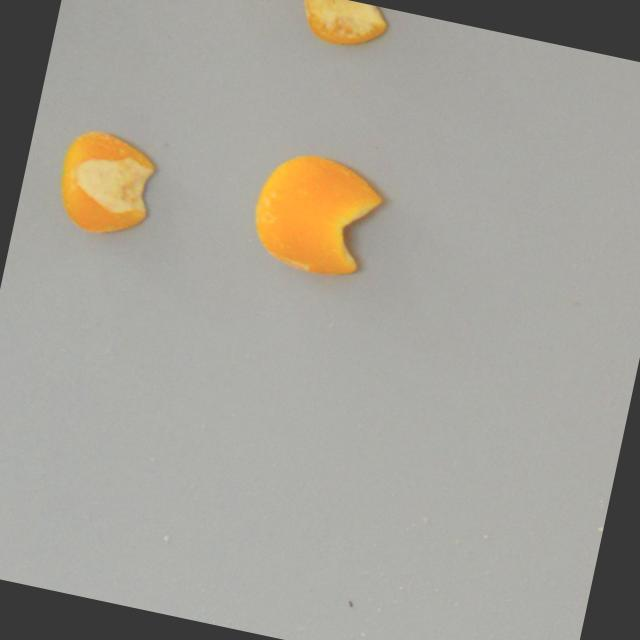dañado: (45, 122, 167, 247)
pelicula: (239, 140, 394, 289)
punto_negro: (289, 0, 396, 57)
